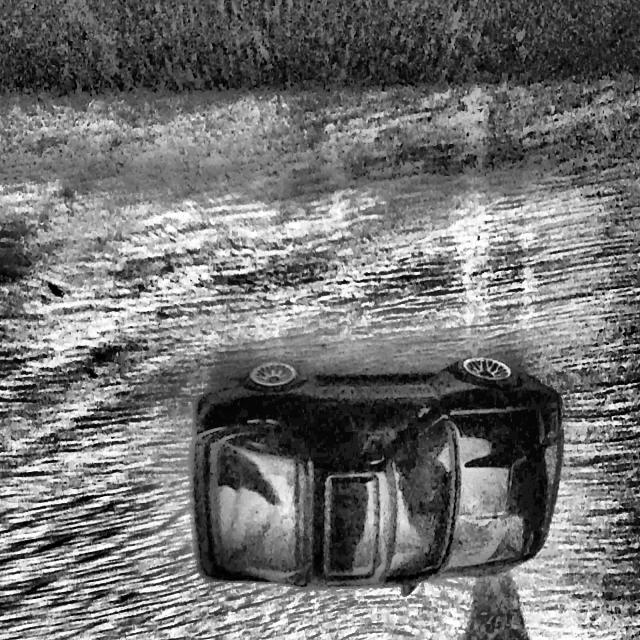car: (192, 354, 563, 592)
